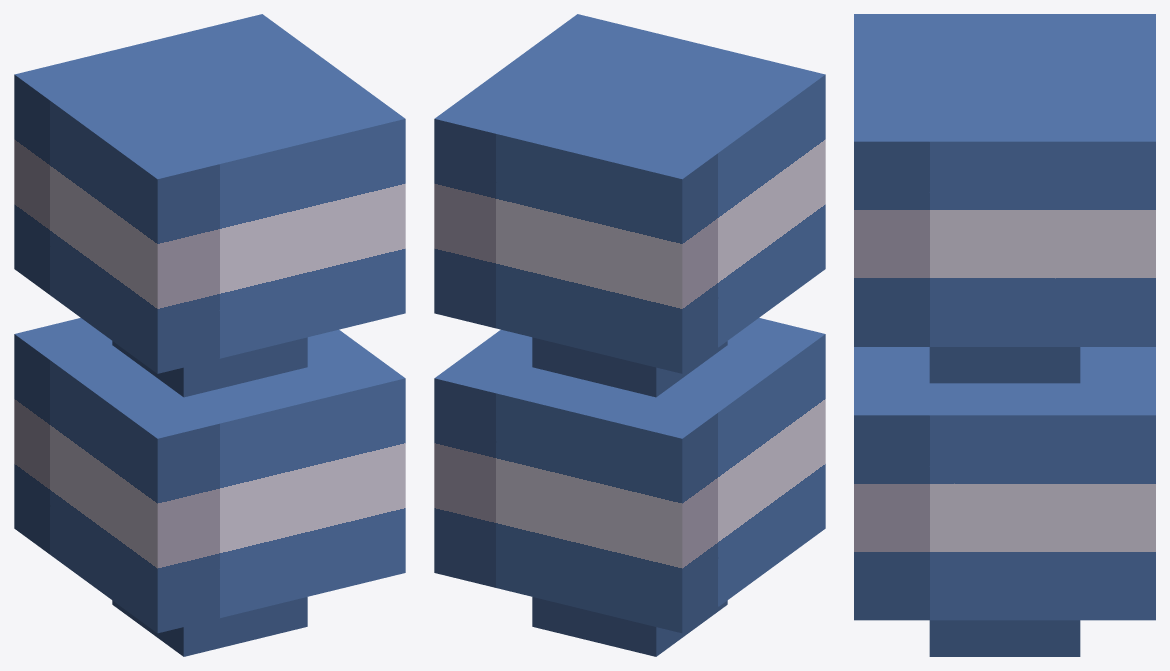
The model's file is int_kitchen_stuff1ao.fezao.glb.
3 views of the same model, side by side, from view 1: azimuth 30°, elevation 25°; view 2: azimuth 150°, elevation 25°; view 3: azimuth 270°, elevation 25° (orthographic). The views are drawn at different scales.
Visible parts, largest first — view 1: INT_KITCHEN_STUFF1AO; view 2: INT_KITCHEN_STUFF1AO; view 3: INT_KITCHEN_STUFF1AO.
Part boxes in pixels (x1=…): INT_KITCHEN_STUFF1AO: x1=14, y1=14, x2=405, y2=656; INT_KITCHEN_STUFF1AO: x1=434, y1=14, x2=825, y2=656; INT_KITCHEN_STUFF1AO: x1=854, y1=14, x2=1155, y2=656.
Size of the model in its own units: 0.25 by 0.5 by 0.25.
Materials: 1 (1 with a texture image).
